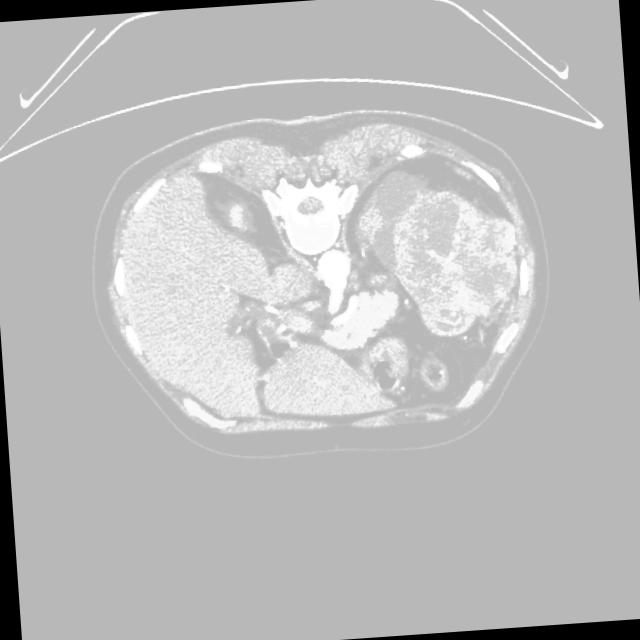TUMOR: (313, 205, 560, 376)
